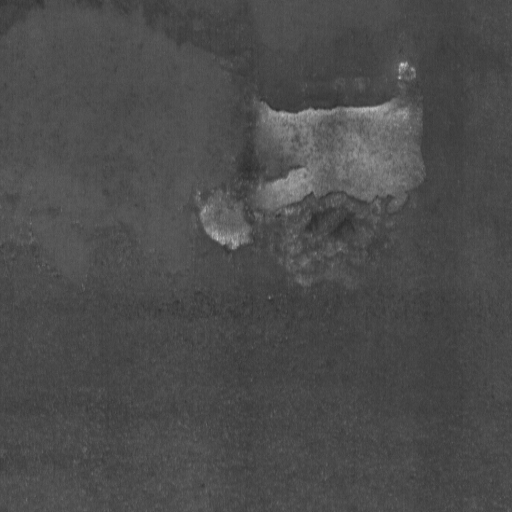qiaopi: (195, 62, 429, 253)
